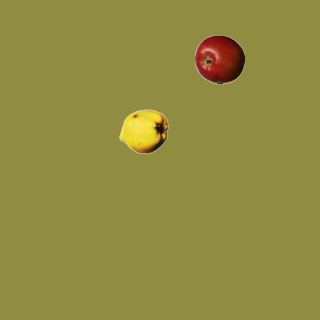Apple Braeburn: (194, 34, 244, 84)
Quince: (118, 106, 168, 156)
